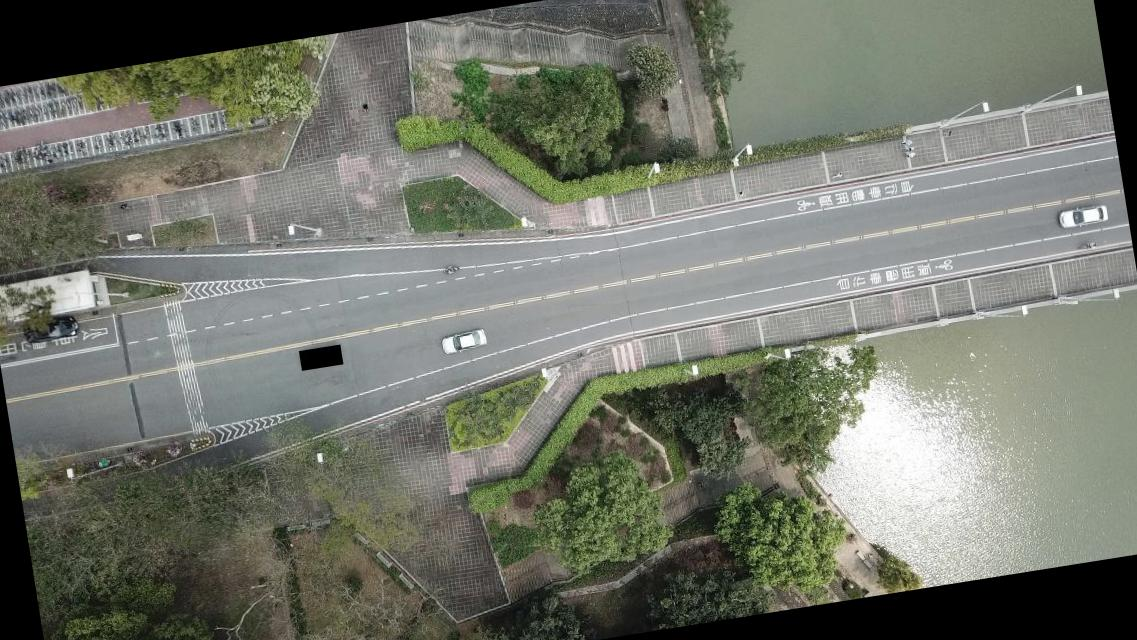vehicle: (20, 314, 80, 344), (1056, 202, 1108, 230), (439, 327, 488, 356)
